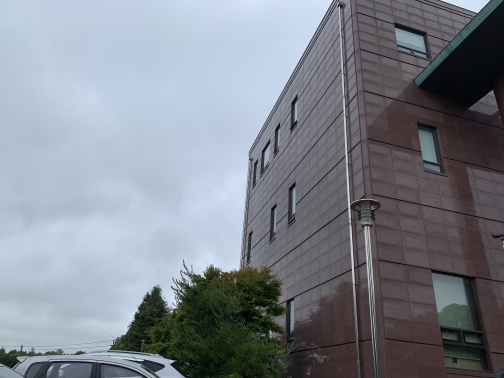Museum: (233, 1, 500, 374)
